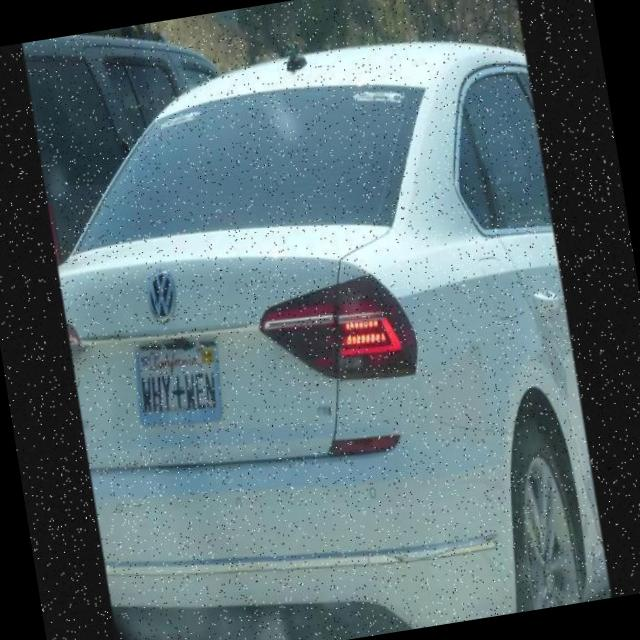LicensePlate: (134, 332, 225, 432)
